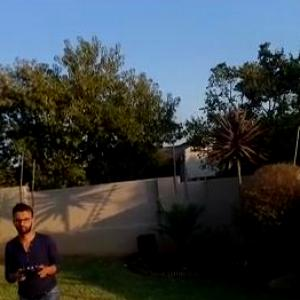follow: (1, 197, 65, 299)
